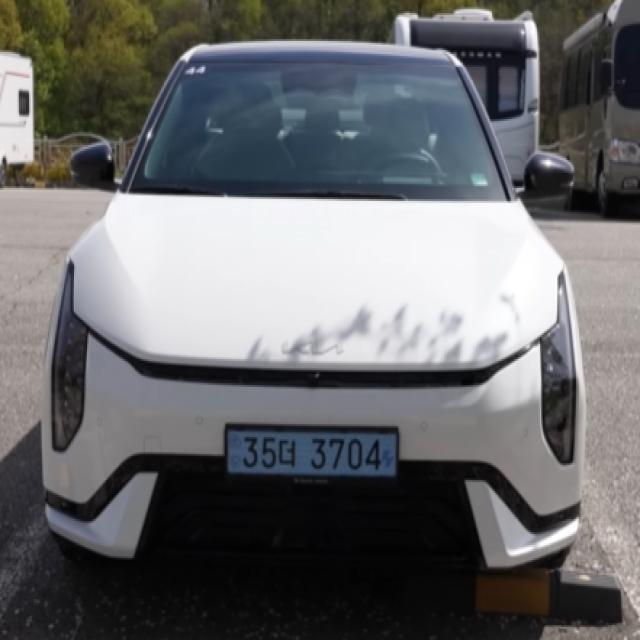car: (201, 413, 439, 504)
carev: (380, 426, 403, 488), (220, 425, 244, 483)
